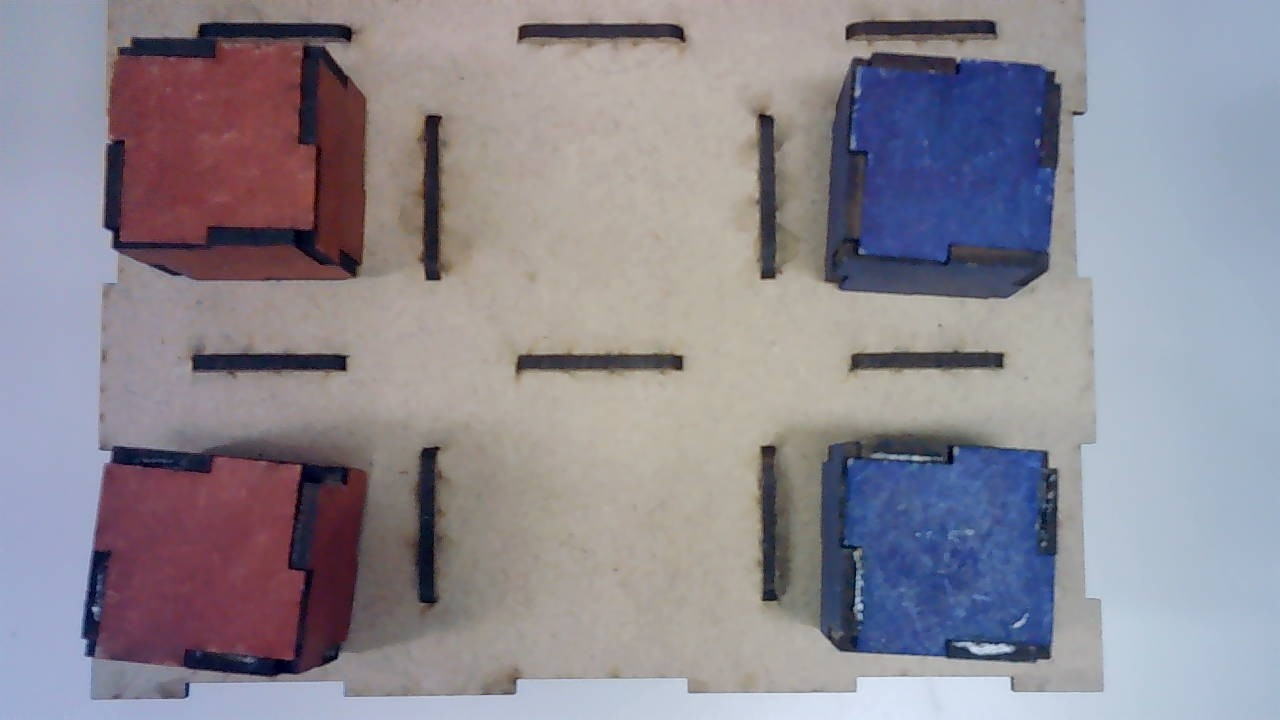blue box: (823, 54, 1060, 303), (819, 440, 1060, 668)
red box: (95, 35, 368, 279), (82, 444, 366, 672)
